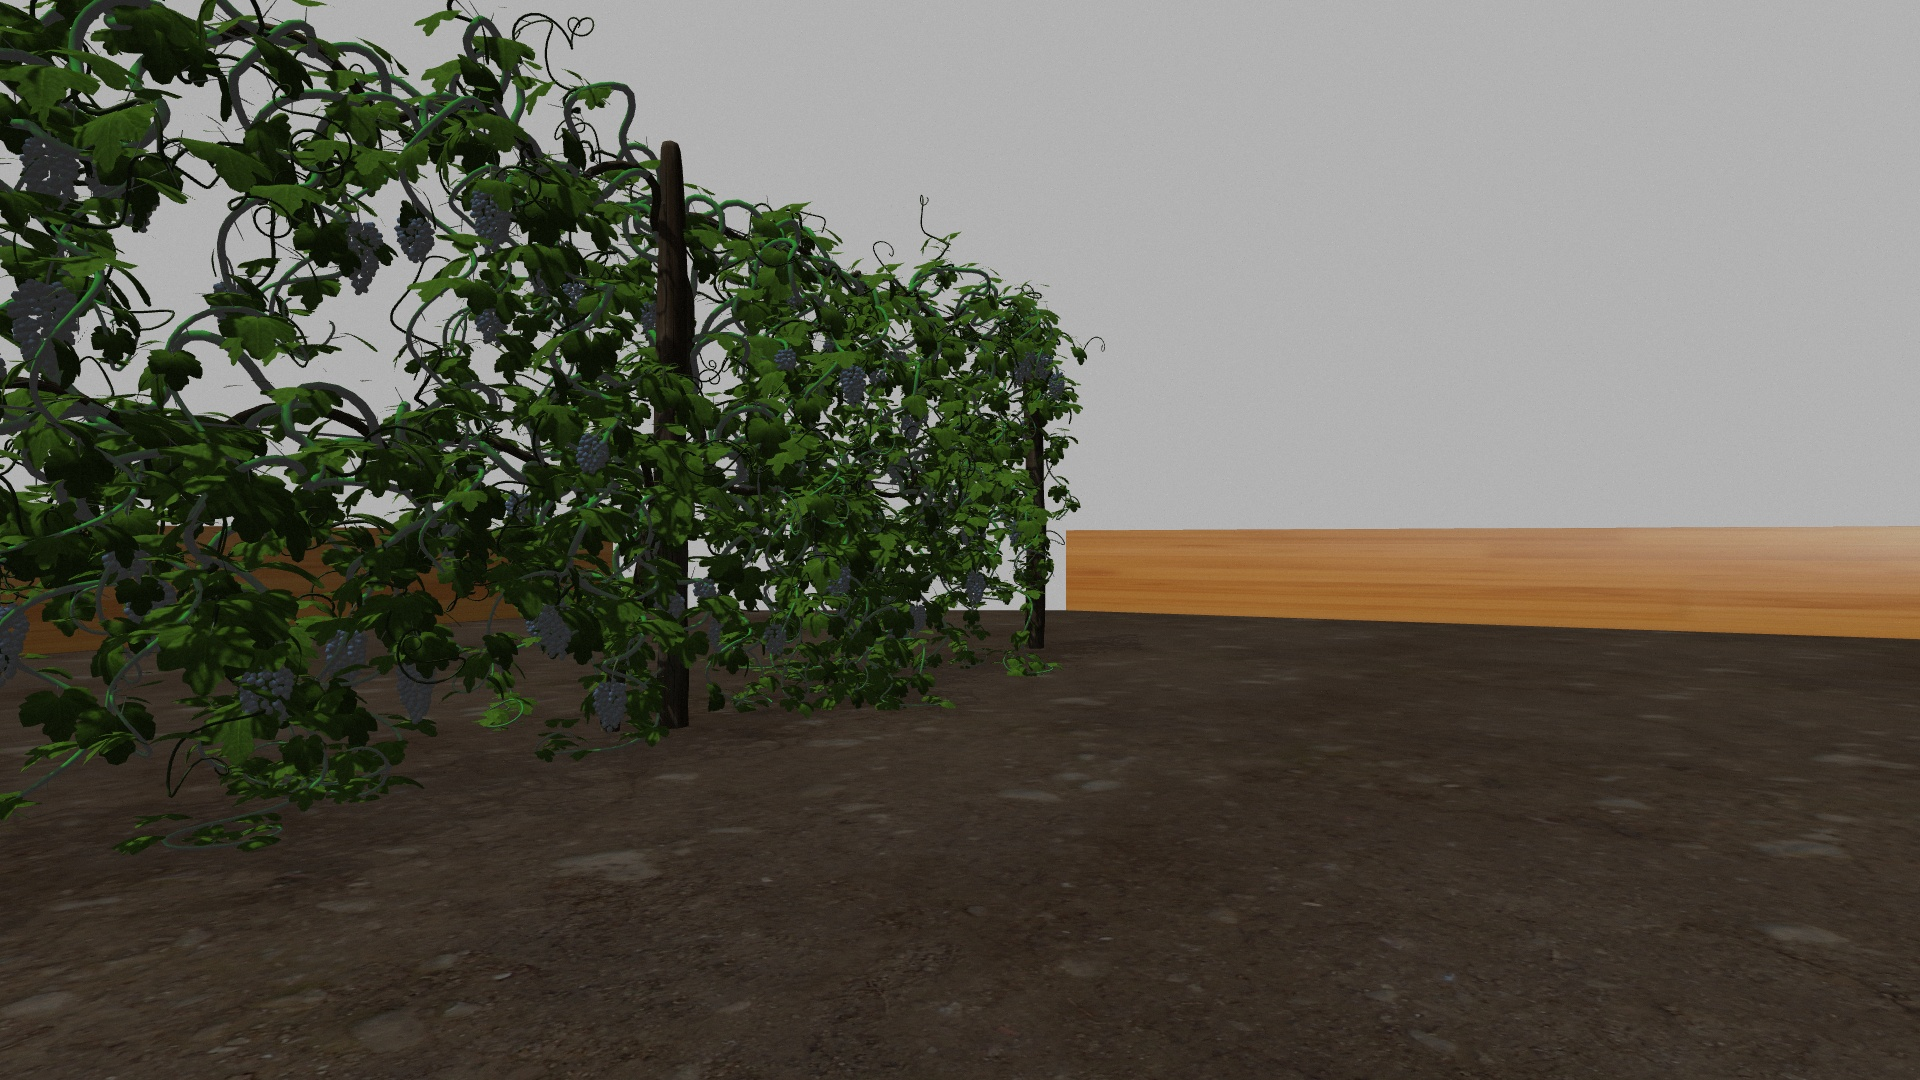grape: (9, 280, 76, 363), (18, 135, 80, 200), (342, 219, 382, 295), (236, 669, 295, 719), (469, 185, 512, 252), (397, 662, 438, 727), (324, 626, 369, 682), (534, 603, 572, 657), (5, 604, 32, 680), (394, 216, 436, 262), (593, 679, 629, 729), (471, 299, 509, 344), (102, 549, 148, 583), (576, 433, 611, 473), (843, 367, 866, 407), (654, 589, 684, 618), (764, 622, 789, 657), (828, 564, 852, 597), (965, 574, 985, 607), (907, 604, 927, 636), (1017, 348, 1036, 380), (774, 348, 796, 371), (694, 578, 717, 599), (640, 303, 655, 332), (1036, 353, 1054, 378), (1048, 373, 1064, 397), (869, 369, 887, 386)
